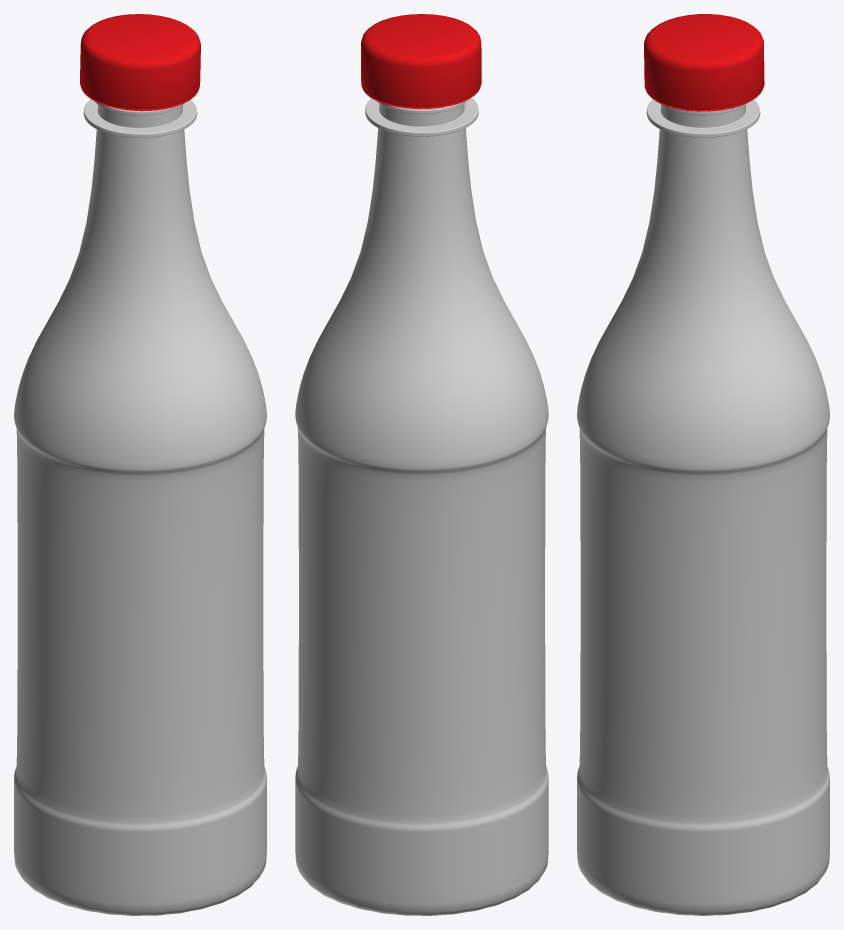
File: bottle-model-4.glb
The picture shows the model from 3 angles, left to right: view 1: azimuth 30°, elevation 25°; view 2: azimuth 150°, elevation 25°; view 3: azimuth 270°, elevation 25°; orthographic projection.
Visible parts, largest first — view 1: Cylinder001, Object_3; view 2: Cylinder001, Object_3; view 3: Cylinder001, Object_3.
Part boxes in pixels (x1,y1,x2,y2): Cylinder001: [14, 99, 266, 915]; Object_3: [80, 14, 200, 111]; Cylinder001: [295, 97, 548, 915]; Object_3: [361, 14, 481, 109]; Cylinder001: [577, 99, 829, 915]; Object_3: [644, 14, 764, 111].
Bounding box in the file's own units: 1.97 × 7.15 × 1.97.
